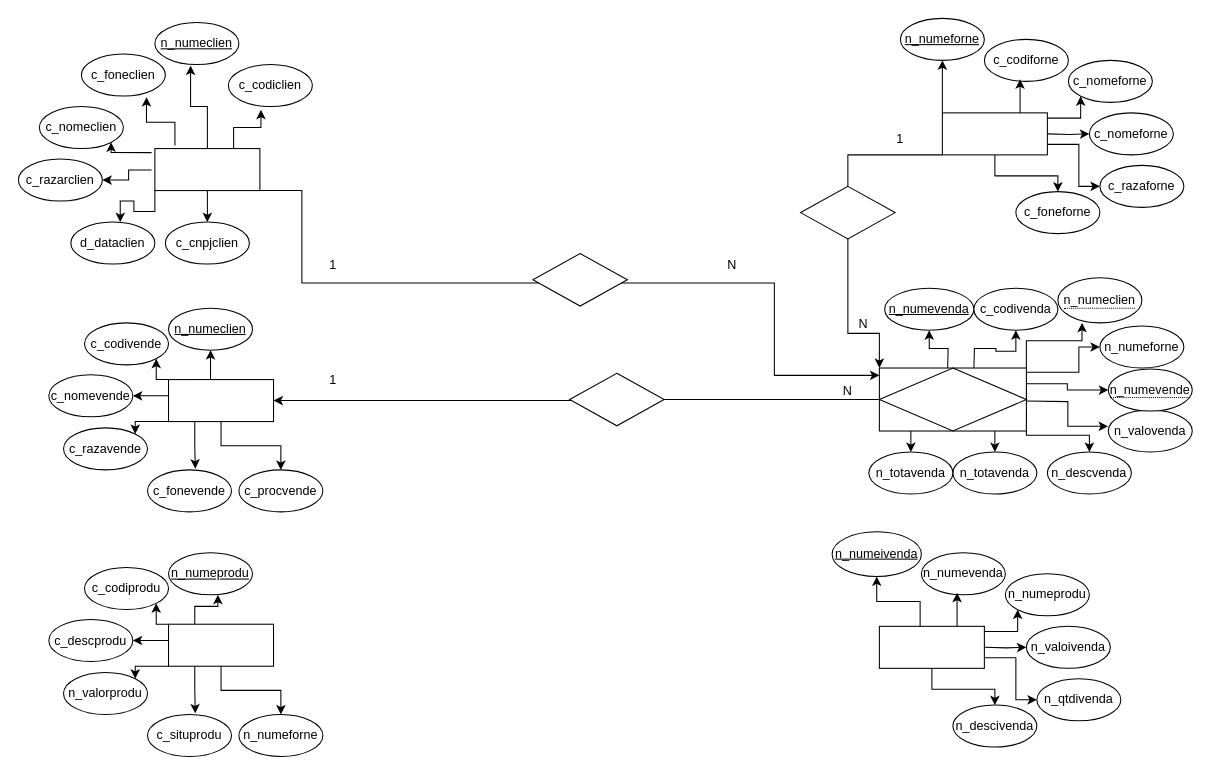
The diagram is 1211 pixels wide and 775 high, and some of its shapes have lost their labels. The box of each missing label's shape, as (x1, y1, x2, y2) in pixels:
comclien: (154, 148, 260, 191)
comforne: (941, 112, 1047, 155)
comivenda: (878, 625, 984, 668)
comprodu: (167, 623, 274, 666)
comvenda: (878, 367, 1026, 431)
comvende: (167, 379, 274, 422)
